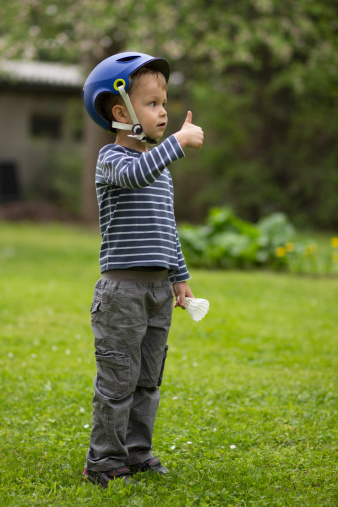em pe: (67, 81, 213, 474)
